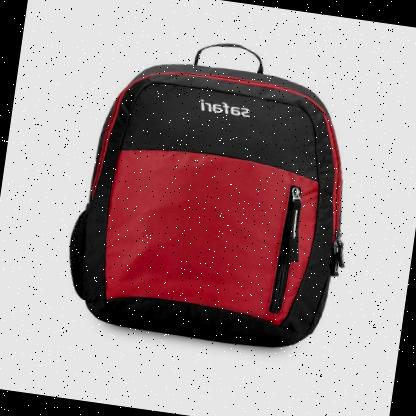bag: (54, 31, 376, 366)
